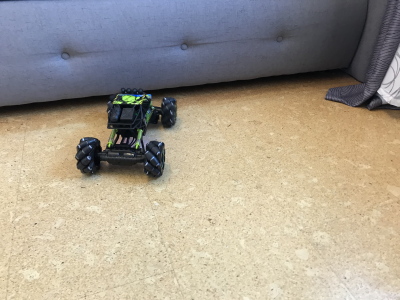remote control car: (70, 81, 181, 182)
